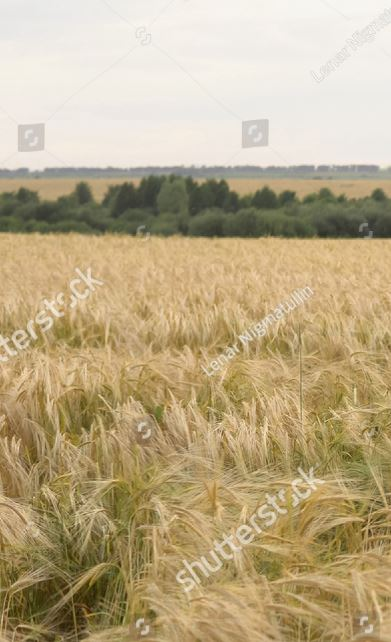Wheat: (26, 364, 372, 636)
